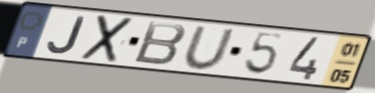4: (287, 35, 321, 82)
5: (241, 30, 287, 77)
B: (131, 20, 189, 68)
J: (45, 14, 88, 55)
U: (182, 25, 238, 72)
X: (77, 14, 137, 65)
